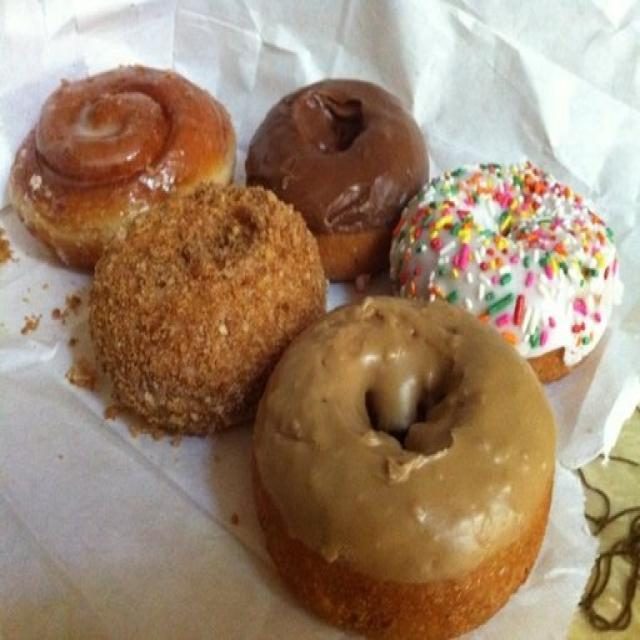Donuts: (8, 40, 633, 640)
